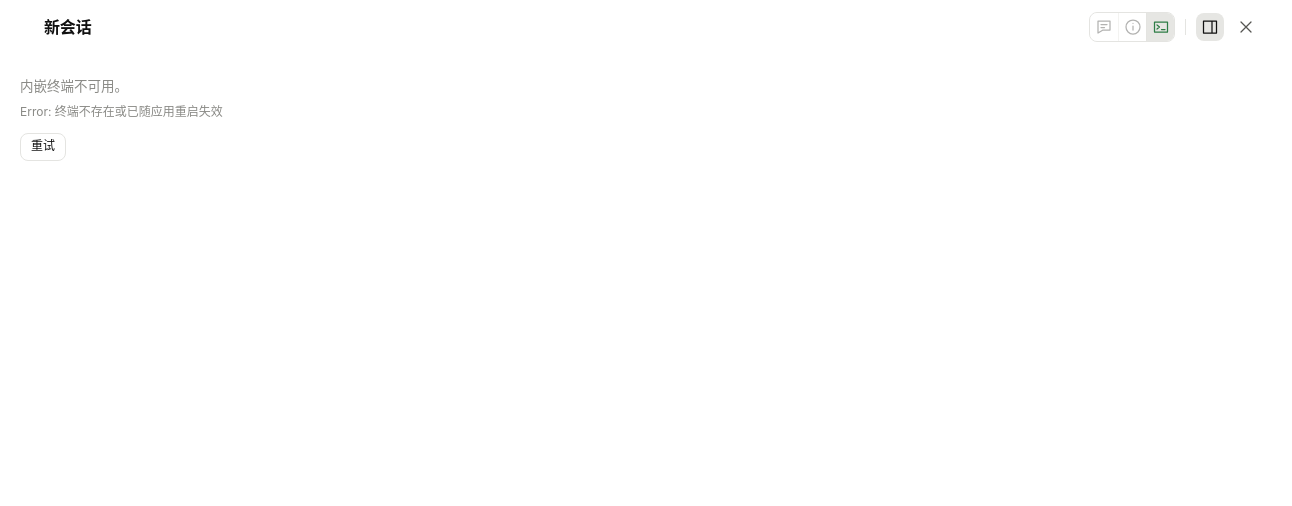
an attach failure shows the message with a retry
The width and height of the screenshot is (1292, 506).
Expected: the text "内嵌终端不可用。 Error: 终端不存在或已随应用重启失效 重试" is shown, top-left (20, 78), bottom-right (223, 161)
Expected: the text "Error: 终端不存在或已随应用重启失效" is shown, top-left (20, 104), bottom-right (223, 119)
What coordinates should you click on to do the following:
click the button "重试"
I would click on:
 (43, 147)
Its box is top-left (20, 133), bottom-right (66, 161).
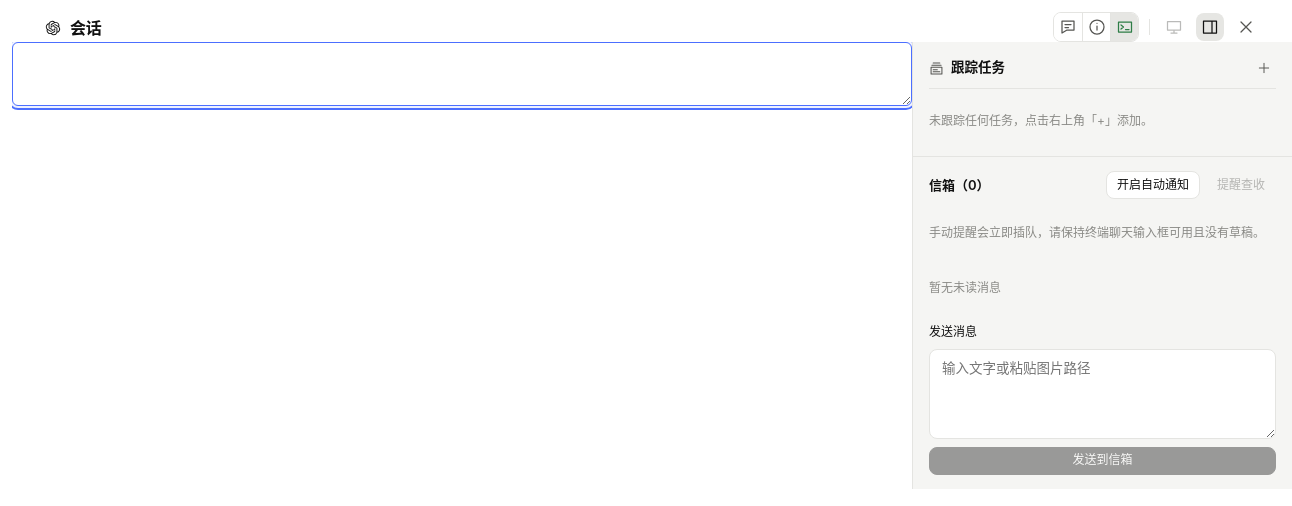
Expected: the text "内嵌终端不可用" is gone
